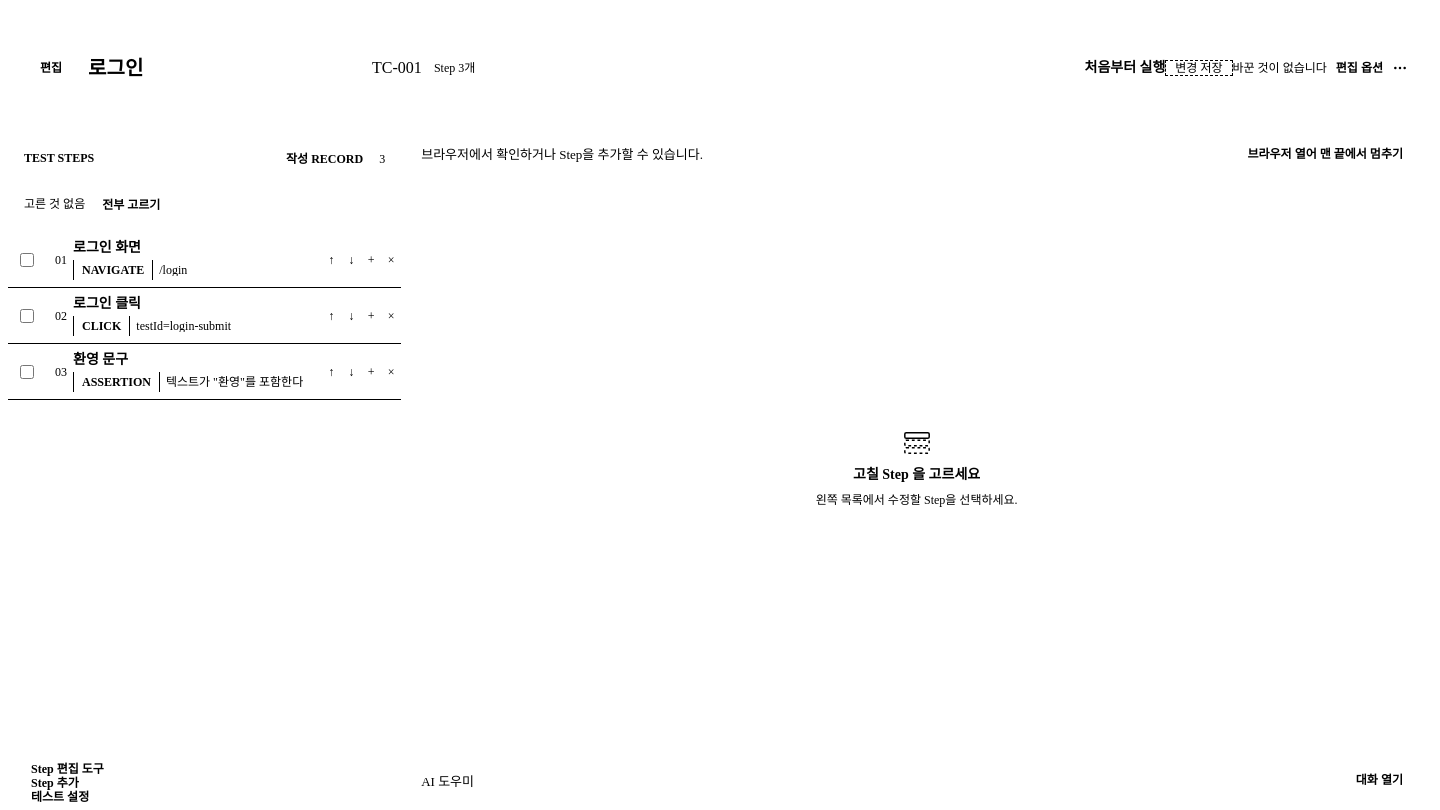
Test: 「이 앞에 추가」 한 조작 (FR-291) › 미저장 변경이 있으면 **먼저 저장한다는 사실이 누르기 전에** 보인다 (FR-292)
Expected: the button "로그인 화면" is shown, [73, 239, 303, 257]
Note: 이름을 바꿔 미저장 변경을 만든다.
Replace the text in the field named "테스트 이름" with "고친 이름" at point(221, 68), box [82, 53, 360, 83]
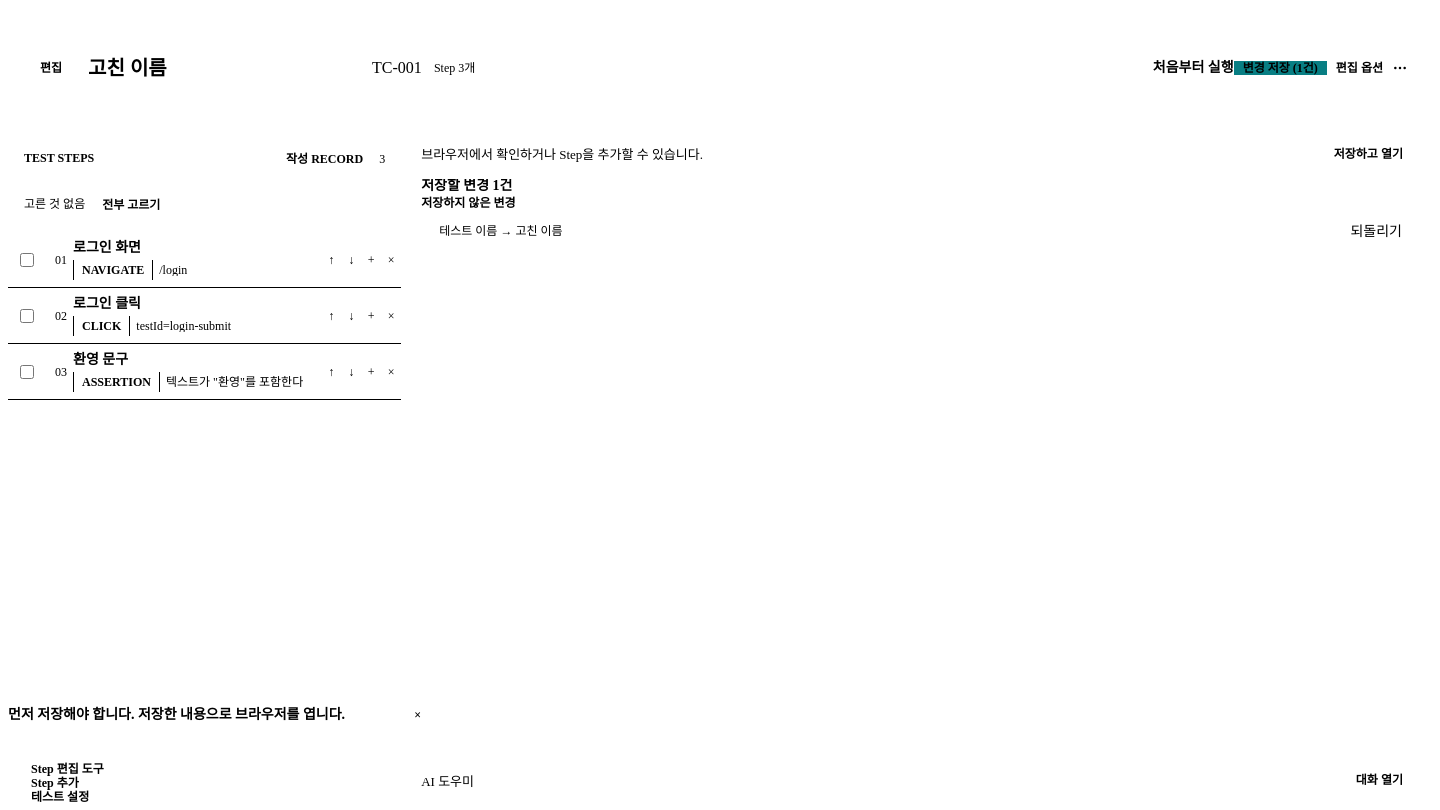
Expected: the text "먼저 저장해야 합니다. 저장한 내용으로 브라우저를 엽니다." is shown, [8, 707, 345, 722]
